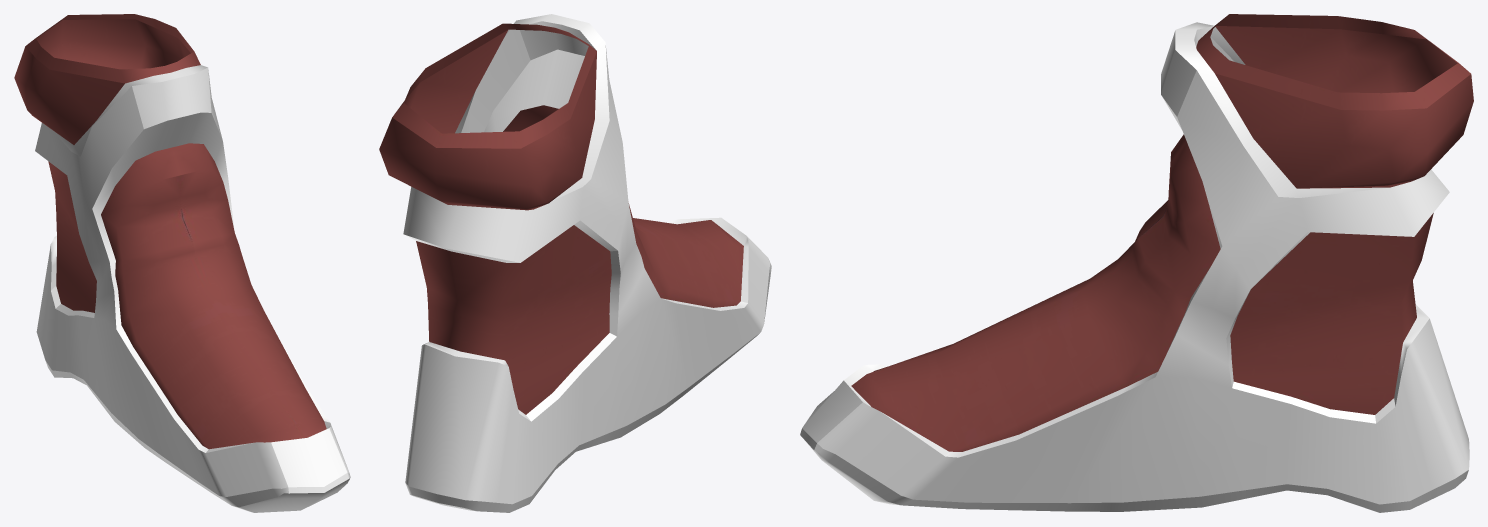
The model's file is silk_slippers.glb.
3 views of the same model, side by side, from view 1: azimuth 30°, elevation 25°; view 2: azimuth 150°, elevation 25°; view 3: azimuth 270°, elevation 25° (orthographic). The views are drawn at different scales.
Visible parts, largest first — view 1: silk_slippers_export; view 2: silk_slippers_export; view 3: silk_slippers_export.
Part boxes in pixels (box(x1,y1,x2,y2)): silk_slippers_export: box(14, 14, 350, 512); silk_slippers_export: box(379, 14, 771, 512); silk_slippers_export: box(800, 14, 1473, 512).
Size of the model in its own units: 0.0844 by 0.1993 by 0.2703.
Materials: 2 (1 with a texture image).
